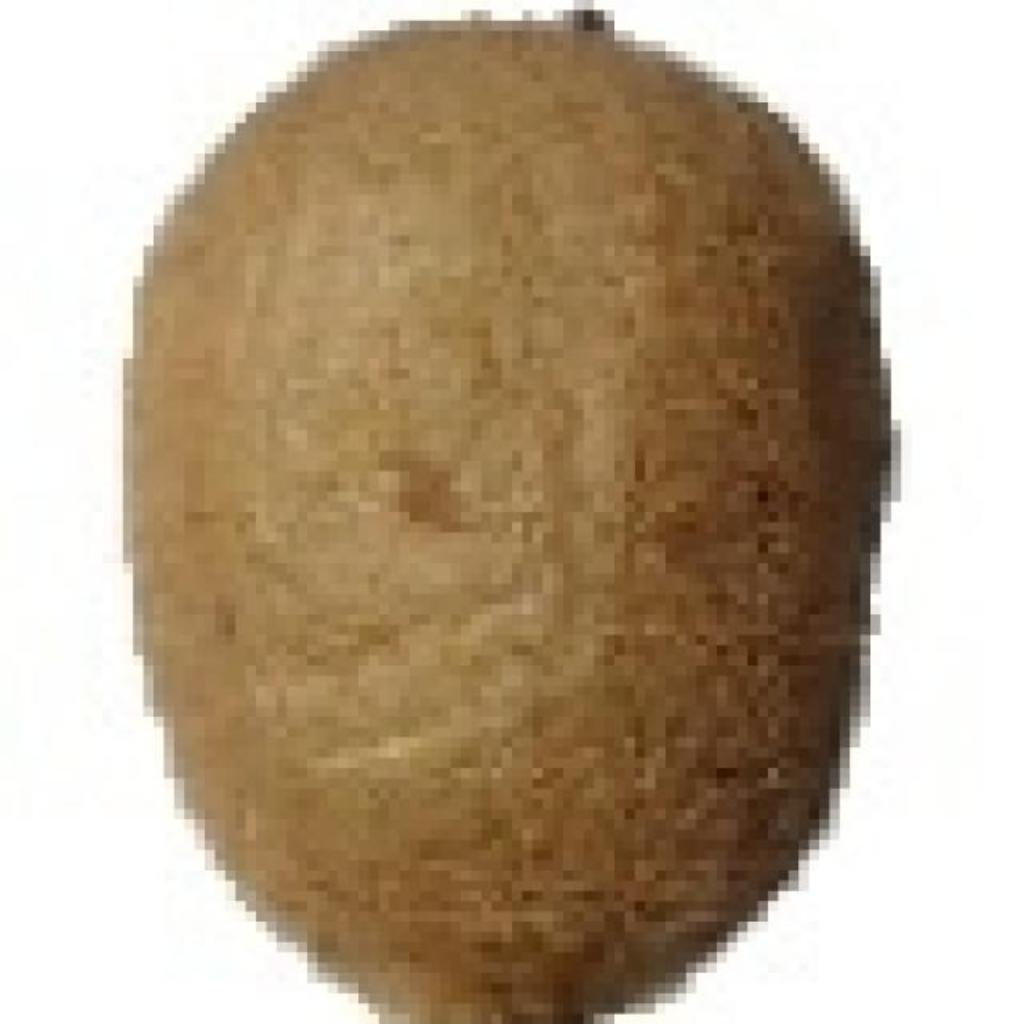kiwi: (123, 10, 870, 1004)
